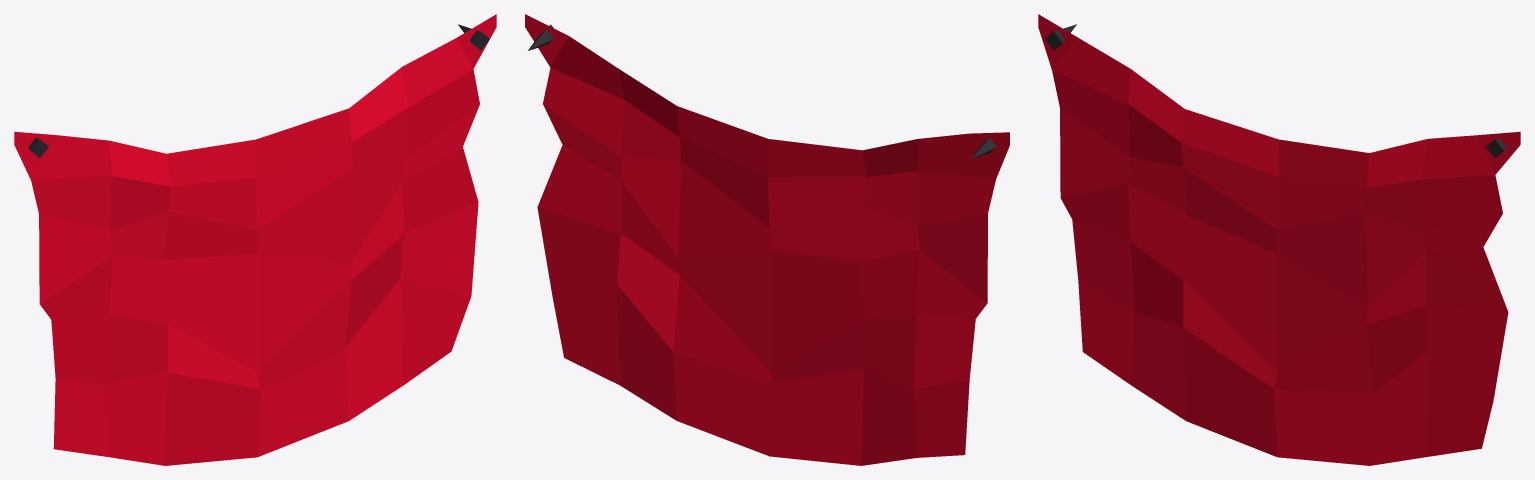
File: Cloth_1.fbx
3 views of the same model, side by side, from view 1: azimuth 30°, elevation 25°; view 2: azimuth 150°, elevation 25°; view 3: azimuth 330°, elevation 25° (orthographic).
Visible parts, largest first — view 1: pCube2442; view 2: pCube2442; view 3: pCube2442.
Boxes of the visible parts, box(x1,y1,x2,y2) form: pCube2442: box(14, 14, 496, 465); pCube2442: box(525, 14, 1009, 465); pCube2442: box(1038, 14, 1520, 465).
Bounding box in the file's own units: 271 × 205 × 24.87.
